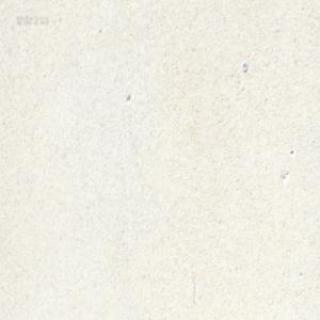Washertrack_idkeyframe: (241, 61, 247, 73)
